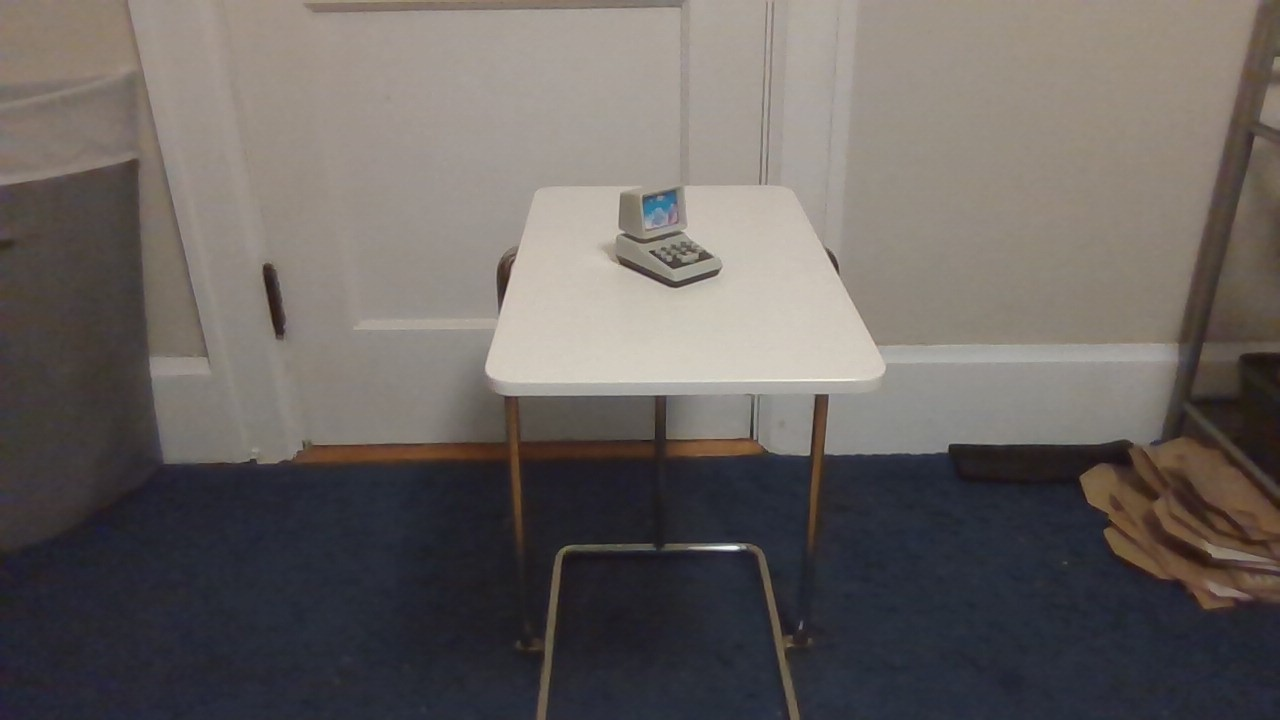Toy: (597, 167, 730, 301)
